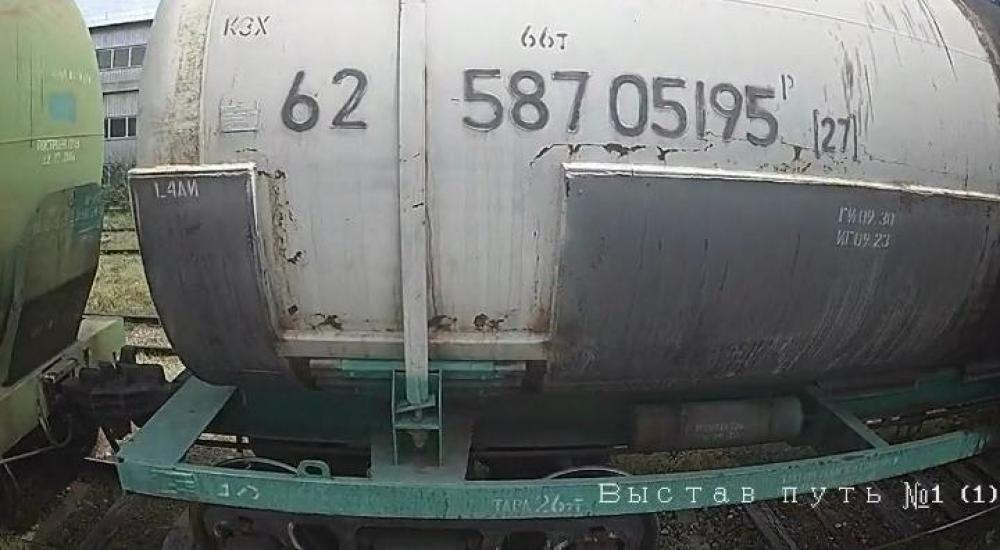Wagon-number: (458, 62, 782, 148)
